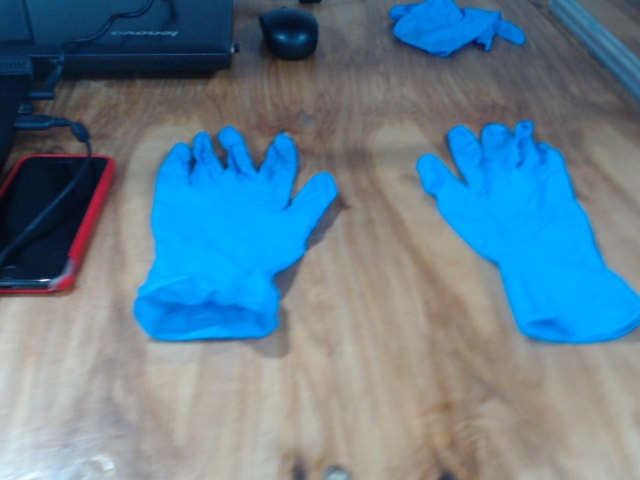medical_glove: (416, 121, 640, 343), (135, 126, 338, 338)
